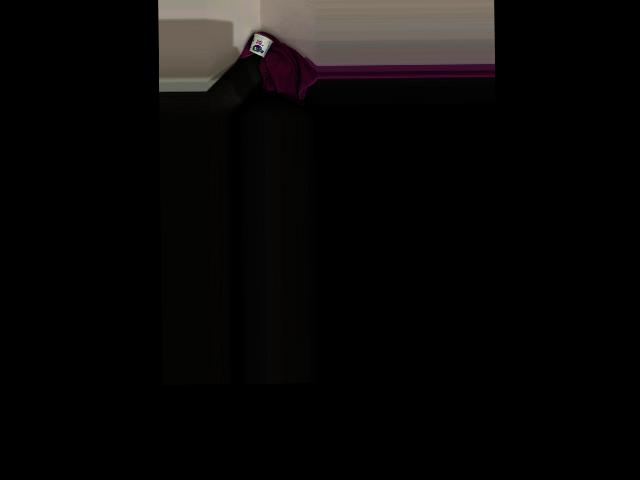cotage: (249, 31, 272, 56)
